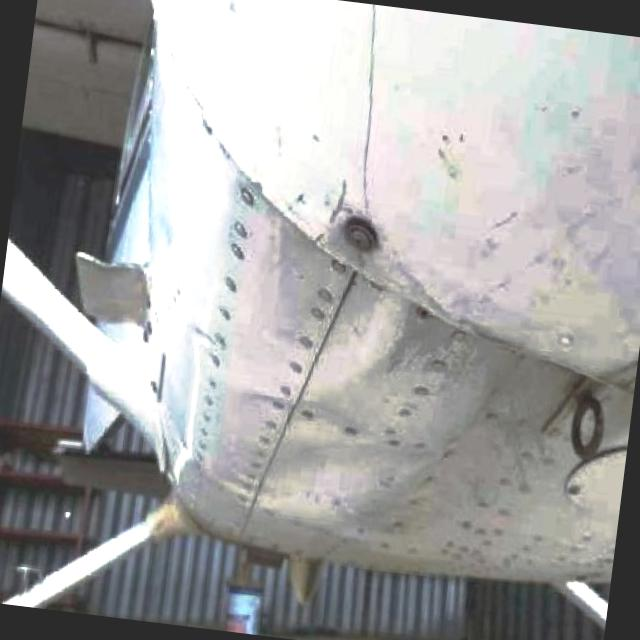dent: (246, 214, 414, 406), (254, 403, 386, 519)
